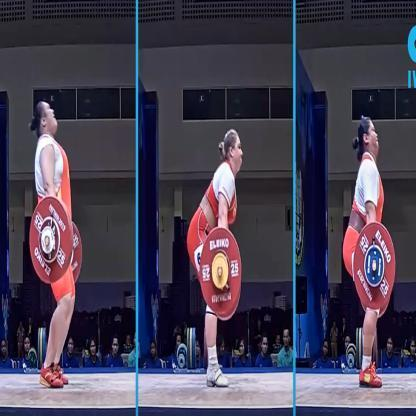barbell: (29, 197, 82, 287), (199, 226, 242, 319), (354, 222, 394, 308)
